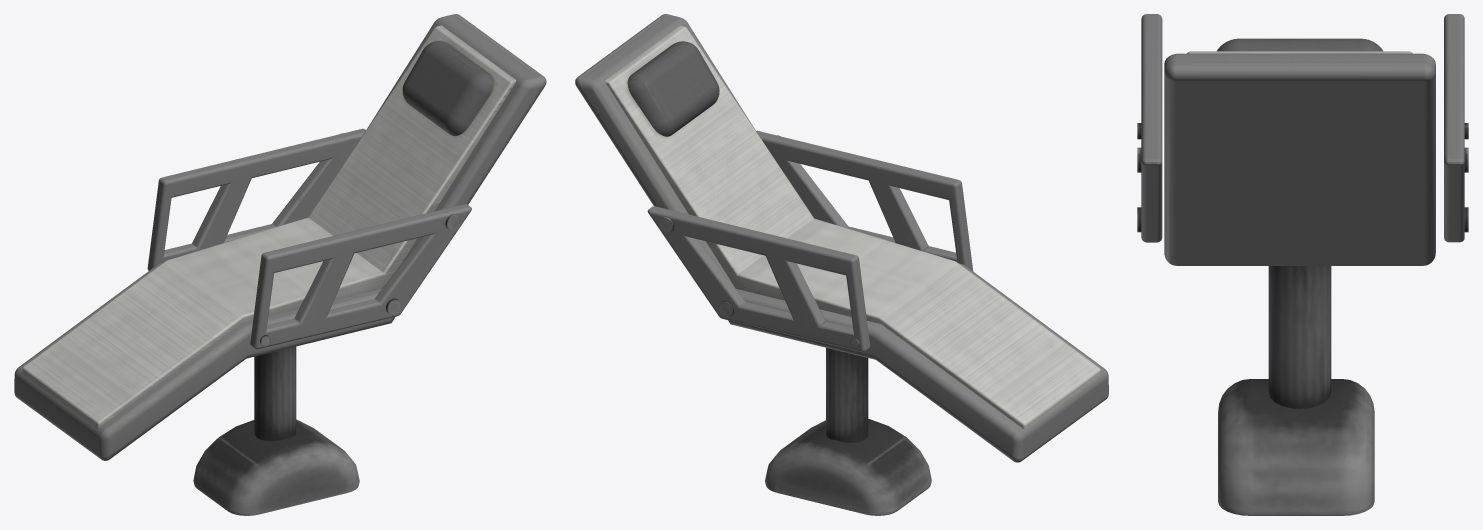
Rendered from equip_clinic_ot_examination_chair.glb.
3 renders of one model, left to right at view 1: azimuth 30°, elevation 25°; view 2: azimuth 150°, elevation 25°; view 3: azimuth 270°, elevation 25°, orthographic. The views are drawn at different scales.
Parts seen in each view (by area): view 1: pCube3, pCube1, polySurface3, polySurface1, polySurface4, pCube2, pCylinder1; view 2: pCube3, pCube1, polySurface4, polySurface1, polySurface3, pCube2, pCylinder1; view 3: pCube1, polySurface1, pCylinder1, polySurface3, polySurface4, pCube2, pCube3.
Boxes of the visible parts, x1,y1,x2,y2 form: pCube3: (22, 25, 516, 428); pCube1: (14, 14, 546, 460); polySurface3: (250, 204, 471, 349); polySurface1: (193, 419, 359, 515); polySurface4: (147, 128, 365, 270); pCube2: (402, 41, 493, 135); pCylinder1: (254, 346, 296, 441); pCube3: (605, 25, 1100, 430); pCube1: (575, 14, 1108, 462); polySurface4: (647, 206, 870, 352); polySurface1: (765, 419, 931, 515); polySurface3: (756, 130, 973, 270); pCube2: (627, 41, 719, 136); pCylinder1: (826, 348, 868, 442); pCube1: (1164, 53, 1435, 265); polySurface1: (1218, 379, 1374, 515); pCylinder1: (1268, 266, 1331, 408); polySurface3: (1141, 14, 1162, 242); polySurface4: (1444, 14, 1464, 242); pCube2: (1217, 38, 1382, 51); pCube3: (1187, 51, 1412, 53).
Bounding box in the file's own units: 2.56 × 2.11 × 1.12.
2 materials, 2 textured.
